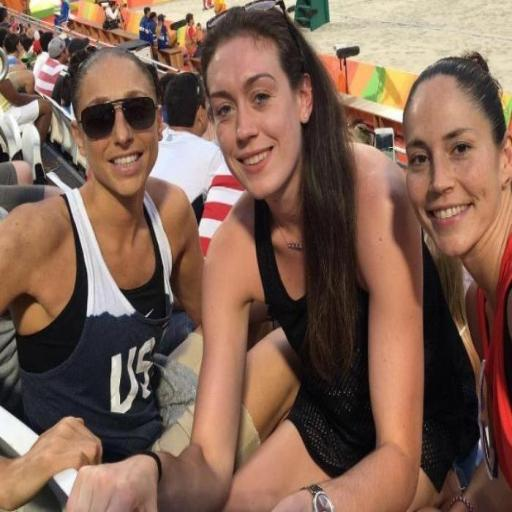person: (71, 9, 477, 511), (0, 49, 202, 461), (404, 54, 511, 511), (151, 74, 225, 205), (0, 78, 51, 142), (36, 37, 69, 97), (185, 13, 201, 57), (104, 0, 121, 29), (156, 14, 168, 48), (54, 0, 70, 25), (146, 12, 157, 46), (139, 7, 150, 40)
